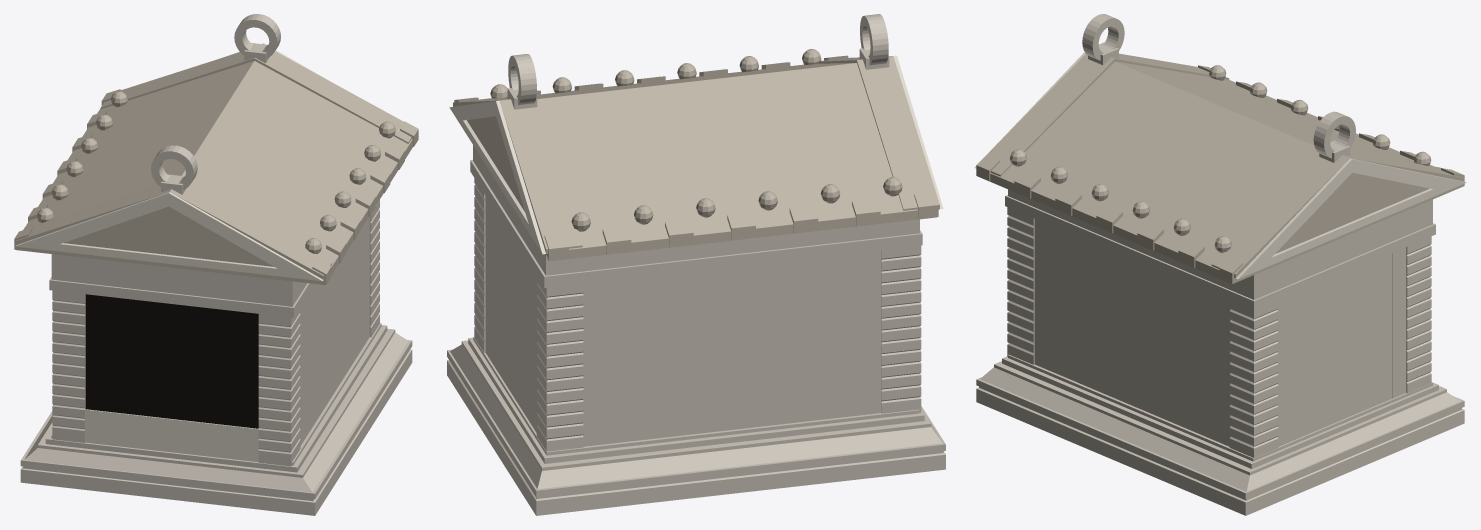
The model's file is crypt_clay.glb.
The picture shows the model from 3 angles, left to right: view 1: azimuth 30°, elevation 25°; view 2: azimuth 150°, elevation 25°; view 3: azimuth 270°, elevation 25°; orthographic projection. The views are drawn at different scales.
Visible parts, largest first — view 1: walls, roofs, openings, frames; view 2: walls, roofs, frames; view 3: walls, roofs, frames.
Boxes of the visible parts, x1,y1,x2,y2 form: walls: (20,14,412,515); roofs: (14,51,418,284); openings: (85,294,258,428); frames: (15,43,328,462); walls: (447,14,945,515); roofs: (453,49,939,261); frames: (449,55,943,254); walls: (976,14,1464,515); roofs: (976,53,1464,283); frames: (974,52,1466,279).
Bounding box in the file's own units: 4.36 × 3.38 × 4.36.
